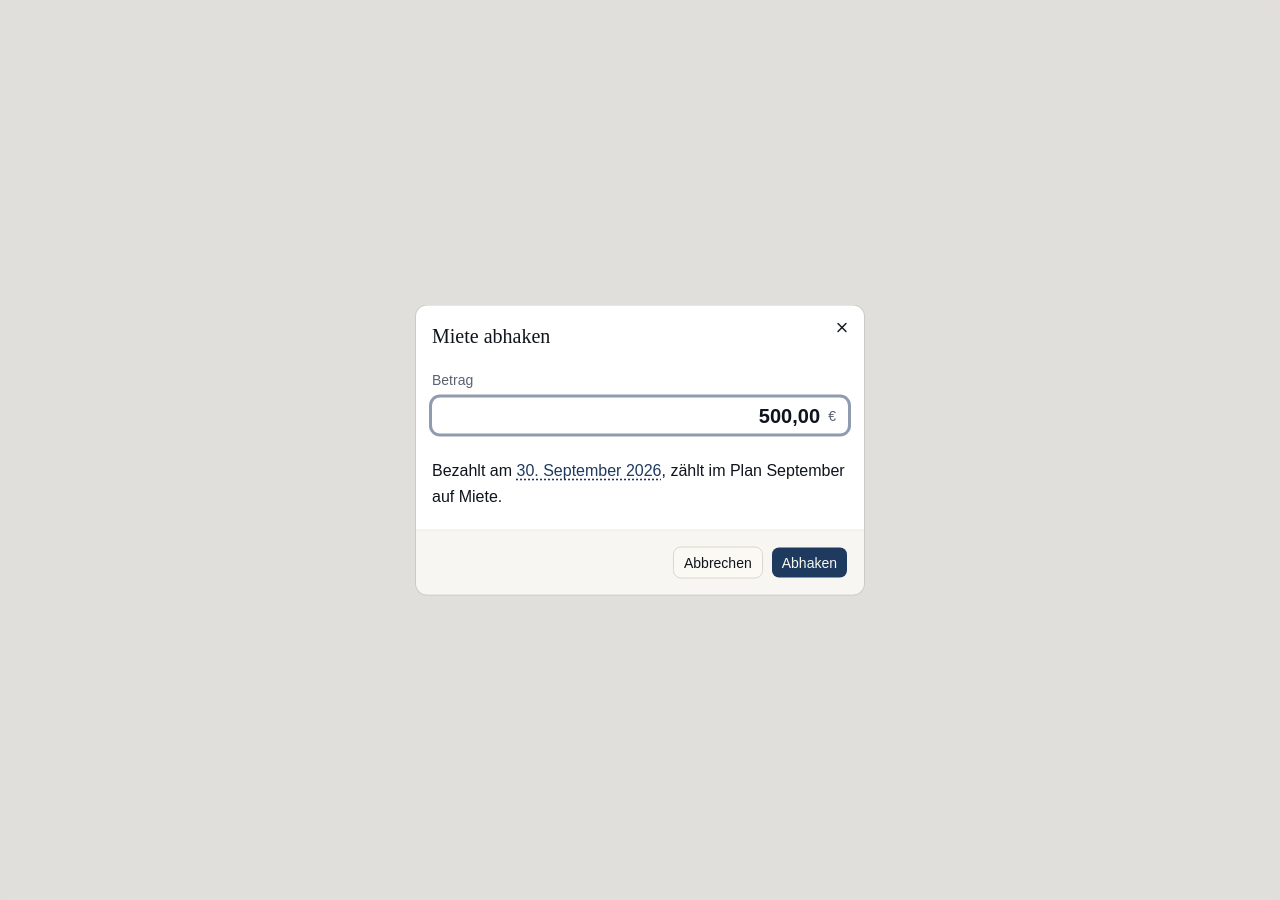
BookingDialog tick › names the date in its sentence, a clickable word that opens a calendar panel
Step 1. Click the button "30. September 2026" → click(589, 470), box [514,458,664,484]
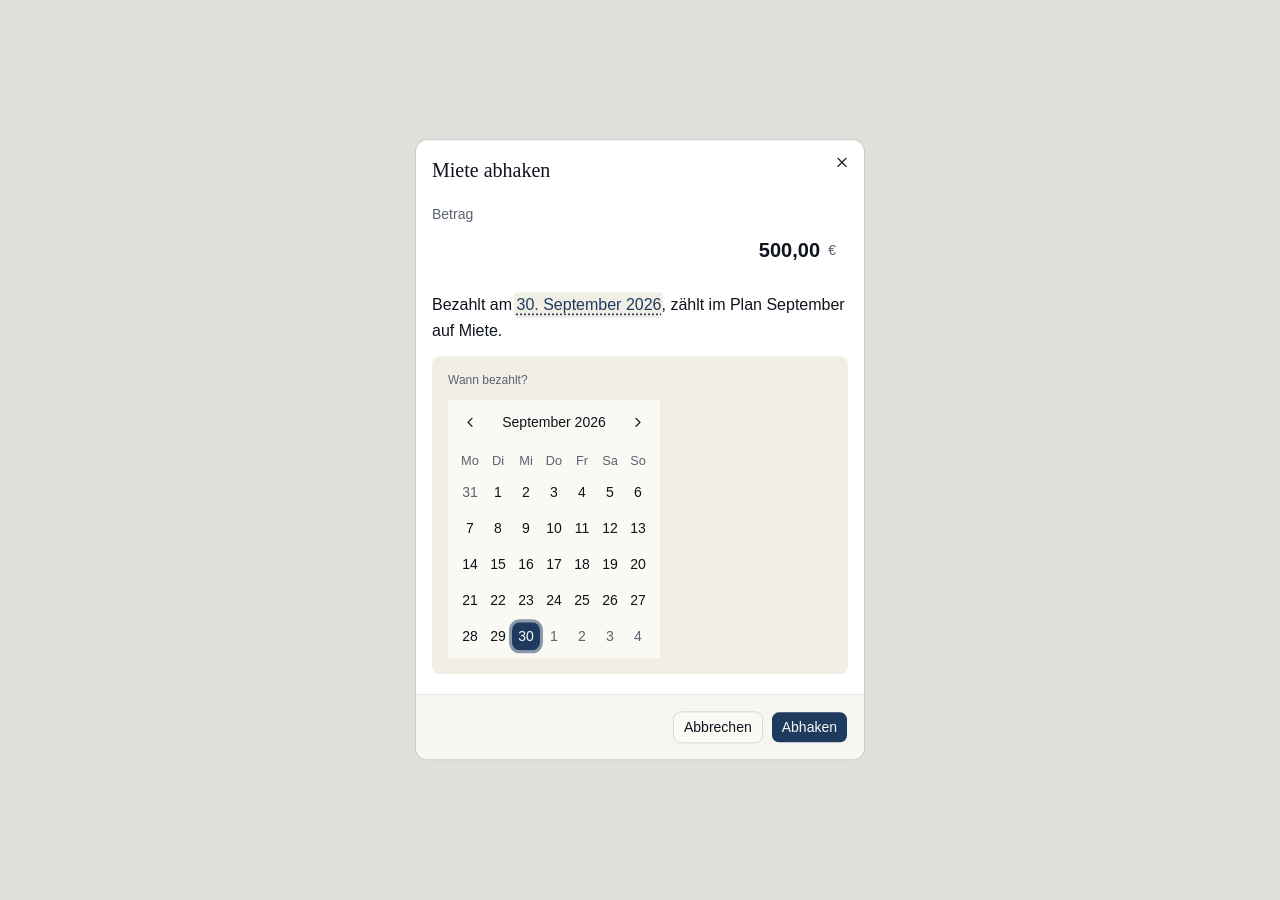
Expected: the element "Wann bezahlt?" is shown, [432,356,848,675]
Step 2. Press Escape
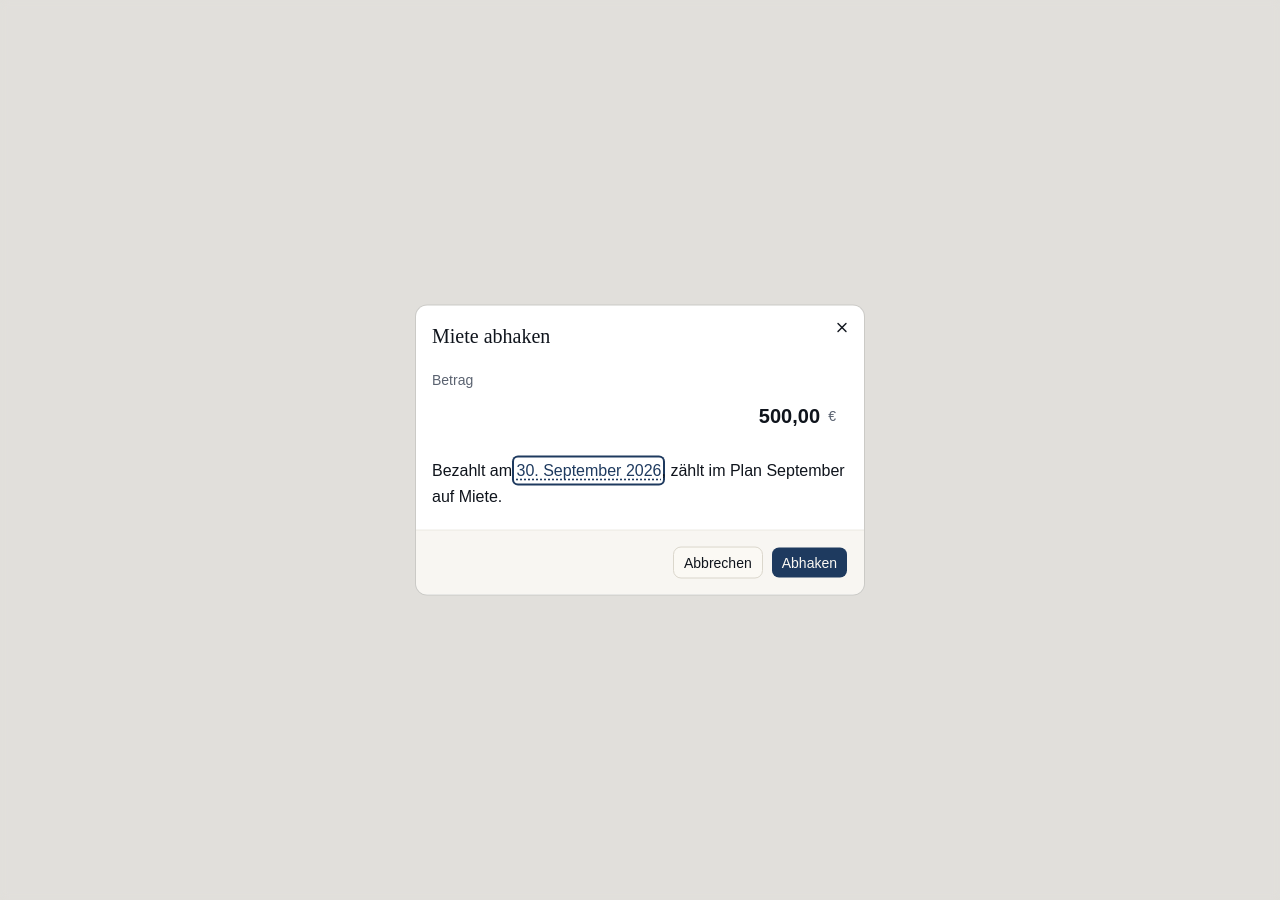
Expected: the text "Wann bezahlt?" is gone
